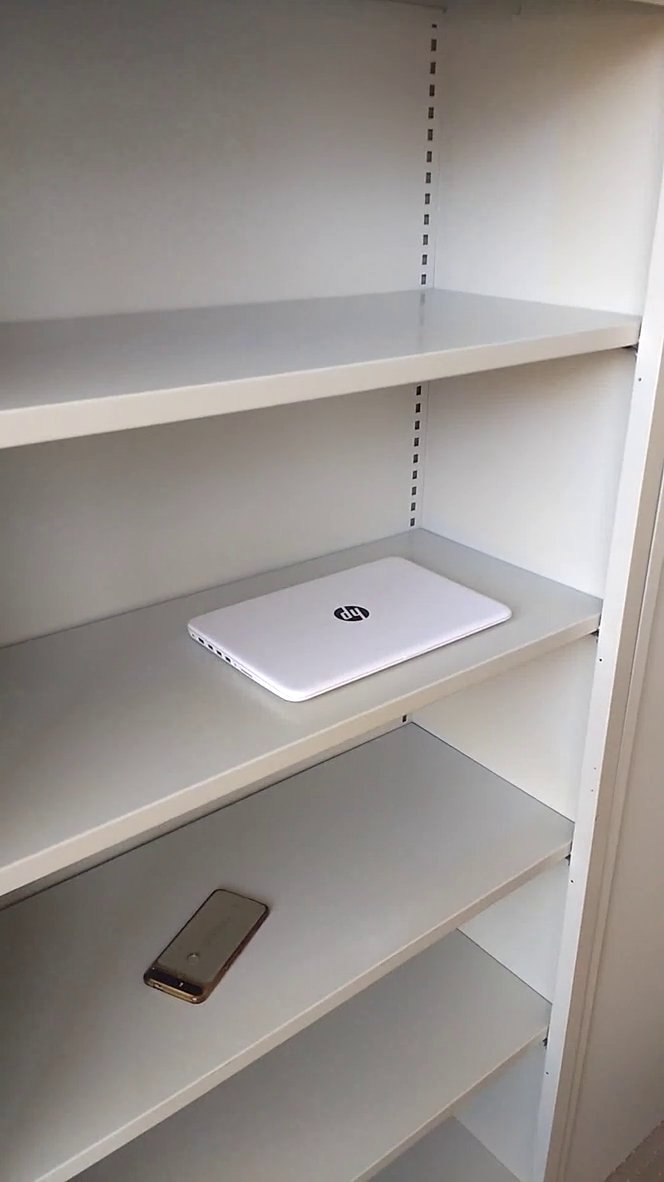laptop: (174, 546, 520, 720)
phone: (141, 876, 282, 1020)
